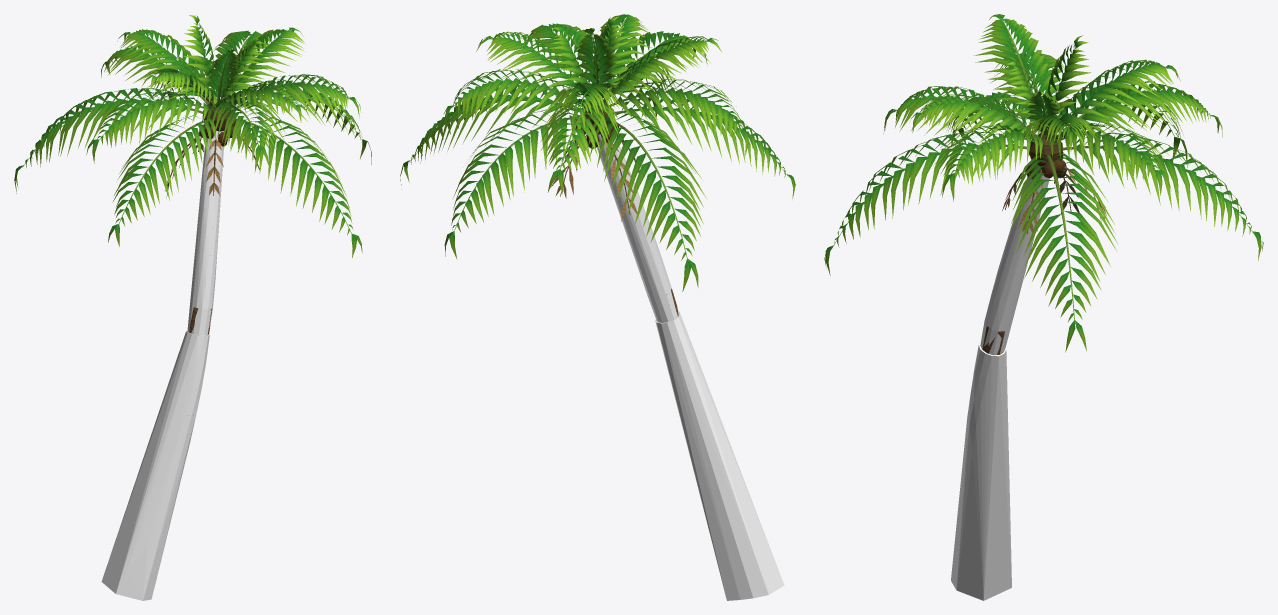
The model's file is palm_curved.glb.
3 renders of one model, left to right at view 1: azimuth 30°, elevation 25°; view 2: azimuth 150°, elevation 25°; view 3: azimuth 270°, elevation 25°, orthographic. The views are drawn at different scales.
Parts seen in each view (by area): view 1: Fronds, col_trunk_lower, col_trunk_upper, Trunk; view 2: Fronds, col_trunk_lower, col_trunk_upper, Trunk; view 3: Fronds, col_trunk_lower, col_trunk_upper, Trunk.
Part boxes in pixels (bbox=[...]): Fronds: bbox=[14, 15, 371, 257]; col_trunk_lower: bbox=[101, 331, 209, 600]; col_trunk_upper: bbox=[187, 130, 223, 335]; Trunk: bbox=[165, 101, 259, 415]; Fronds: bbox=[400, 14, 795, 291]; col_trunk_lower: bbox=[655, 311, 784, 600]; col_trunk_upper: bbox=[596, 134, 679, 322]; Trunk: bbox=[551, 100, 678, 320]; Fronds: bbox=[824, 14, 1263, 352]; col_trunk_lower: bbox=[951, 342, 1011, 600]; col_trunk_upper: bbox=[980, 175, 1049, 355]; Trunk: bbox=[982, 132, 1106, 354].
Bounding box in the file's own units: 7.66 × 12.35 × 8.06.
4 materials, 3 textured.
